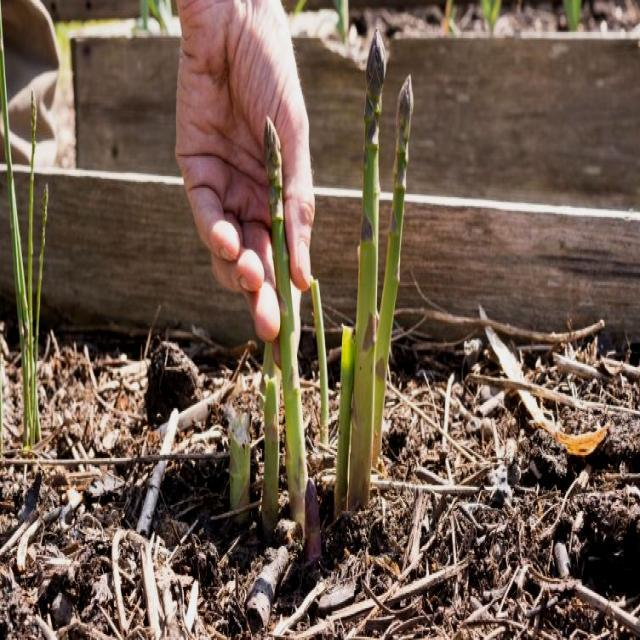aspargus: (261, 119, 308, 526), (349, 27, 385, 511)
